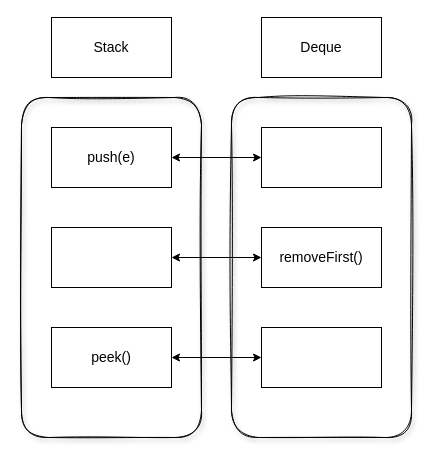
This 435x462 diagram has some shape labels left out. The centre of each missing label's shape, as x and y in pixels:
"addFirst(e)" belongs at pixel 321 157.
"getFirst()" belongs at pixel 321 357.
"pop()" belongs at pixel 111 257.
